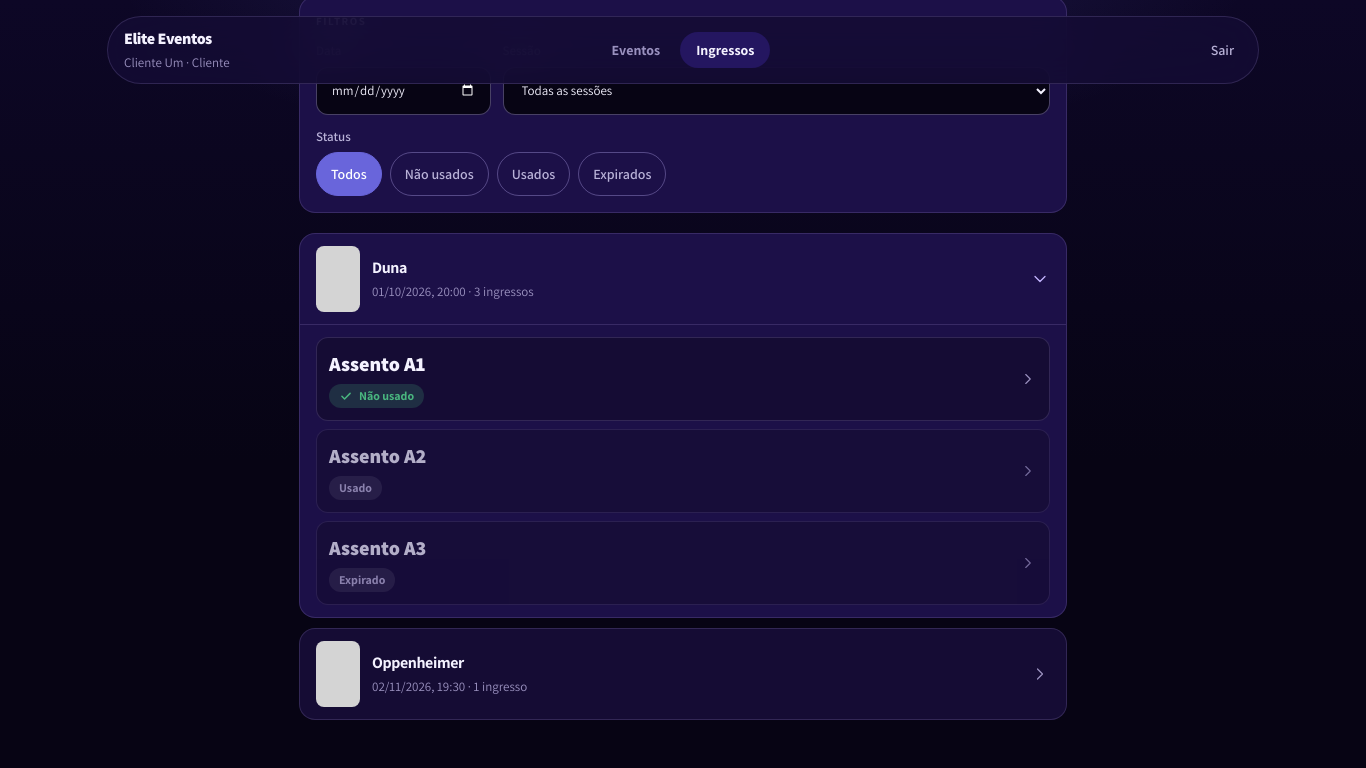
Test: TicketsPage › cliente vê resumo dobrado e abre uma sessão por vez
The width and height of the screenshot is (1366, 768).
(page scrolled)
Check: the text "Assento A1" is shown, box [329, 350, 426, 378]
Check: the text "Assento A2" is shown, box [329, 442, 426, 470]
Click the button "Oppenheimer 02/11/2026, 19:30 · 1 ingresso": click(338, 674) [300, 629, 1066, 719]
(page scrolled)
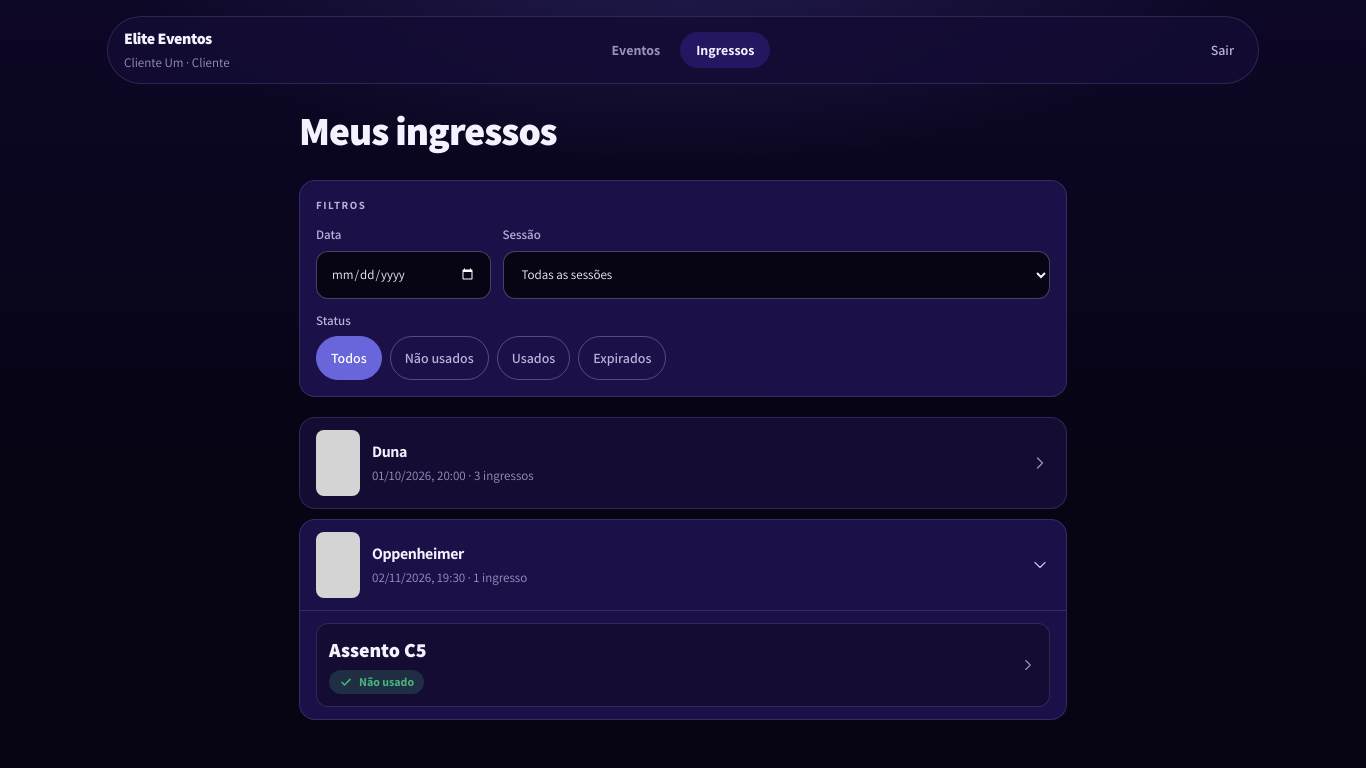
Check: the button "Oppenheimer 02/11/2026, 19:30 · 1 ingresso" is expanded, box [300, 520, 1066, 610]
Check: the button "Duna 01/10/2026, 20:00 · 3 ingressos" is collapsed, box [300, 418, 1066, 508]
Check: the text "Assento C5" is shown, box [329, 636, 426, 664]
